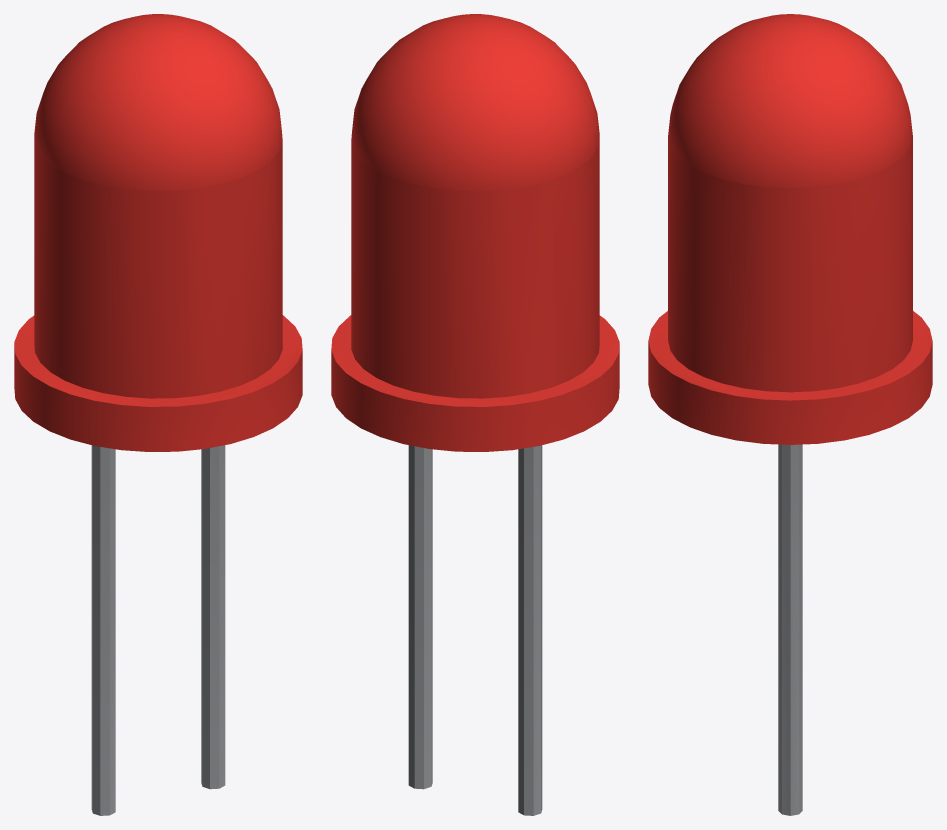
Rendered from proto-led.glb.
3 views of the same model, side by side, from view 1: azimuth 30°, elevation 25°; view 2: azimuth 150°, elevation 25°; view 3: azimuth 270°, elevation 25° (orthographic).
Parts seen in each view (by area): view 1: Lens, Body; view 2: Lens, Body; view 3: Lens, Body.
Part boxes in pixels (left/top/right/bottom): Lens: left=14, top=14, right=302, bottom=451; Body: left=91, top=445, right=225, bottom=815; Lens: left=331, top=14, right=619, bottom=451; Body: left=408, top=445, right=542, bottom=815; Lens: left=648, top=14, right=932, bottom=444; Body: left=778, top=444, right=802, bottom=815.
Size of the model in its own units: 0.0058 by 0.0171 by 0.0058.
